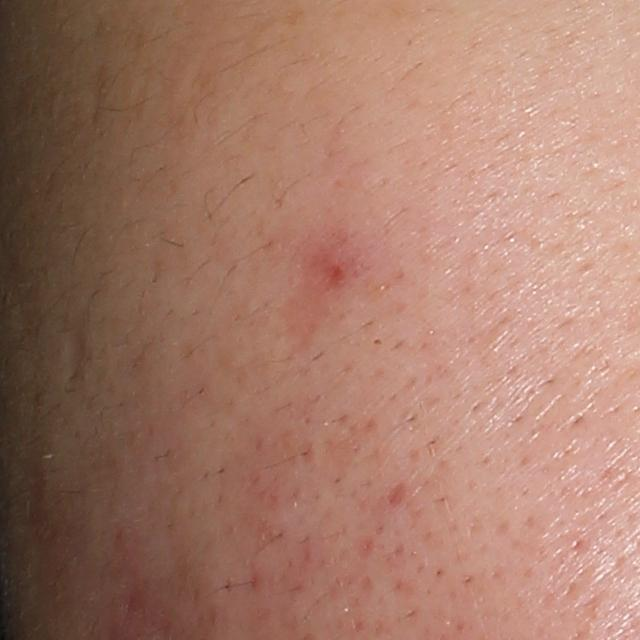atrophic_scar: (277, 225, 365, 350), (55, 302, 94, 389)
